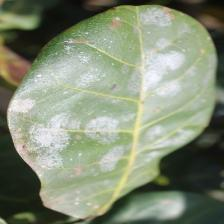red rust: (6, 4, 218, 222)
